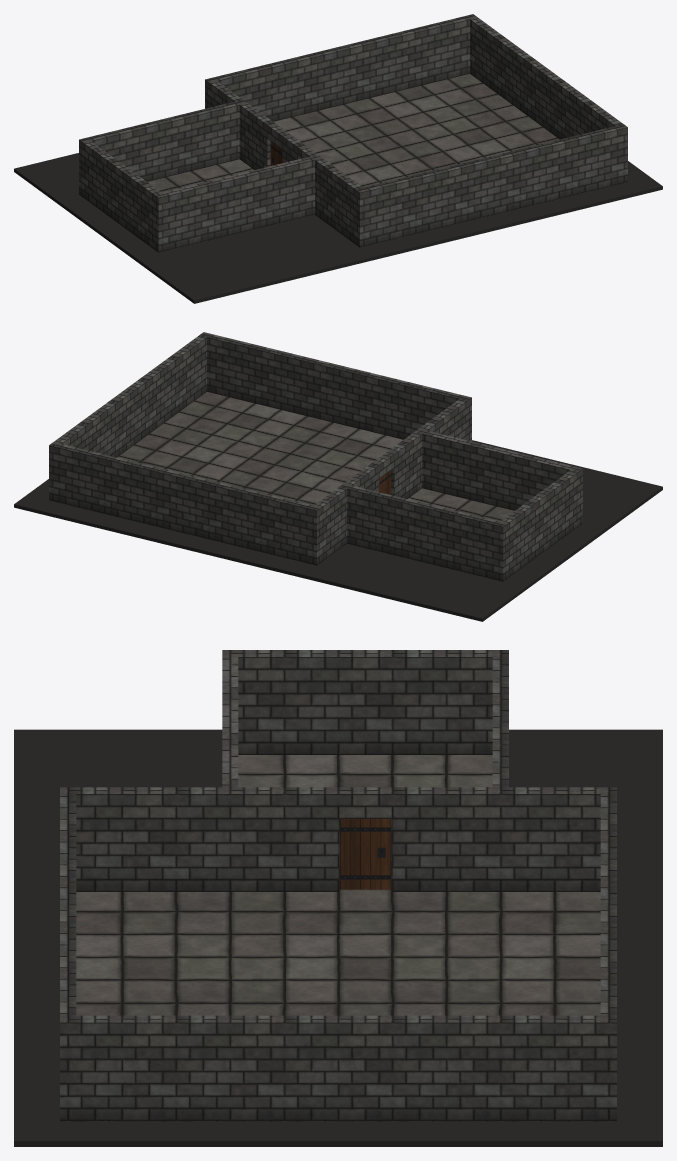
Rendered from two-room-dungeon.glb.
The picture shows the model from 3 angles, top to bottom: view 1: azimuth 30°, elevation 25°; view 2: azimuth 150°, elevation 25°; view 3: azimuth 270°, elevation 25°; orthographic projection. The views are drawn at different scales.
Parts seen in each view (by area): view 1: Base_Bedrock, Floor_Room2, Wall_R2_South, Wall_R2_North, Wall_R1_South, Wall_R1_North, Wall_R2_East, Wall_R1_West, Wall_Shared_A, Wall_Shared_B, Floor_Room1; view 2: Base_Bedrock, Floor_Room2, Wall_R2_North, Wall_R2_South, Wall_R1_North, Wall_R1_South, Wall_R2_East, Wall_R1_West, Wall_Shared_A, Wall_Shared_B, Floor_Room1; view 3: Base_Bedrock, Floor_Room2, Wall_R2_East, Wall_Shared_A, Wall_R1_West, Wall_Shared_B, Floor_Room1, Wall_R2_North, Wall_R2_South, Door_Room1_Room2, Wall_R1_North, Wall_R1_South (+1 smaller).
Boxes of the visible parts, box(x1,y1,x2,y2) form: Base_Bedrock: box(14, 153, 662, 303); Floor_Room2: box(273, 74, 559, 187); Wall_R2_South: box(355, 124, 627, 247); Wall_R2_North: box(205, 14, 477, 121); Wall_R1_South: box(154, 156, 314, 252); Wall_R1_North: box(79, 101, 239, 197); Wall_R2_East: box(470, 17, 622, 139); Wall_R1_West: box(83, 141, 161, 249); Wall_Shared_A: box(282, 134, 362, 243); Wall_Shared_B: box(209, 81, 274, 169); Floor_Room1: box(147, 159, 253, 192); Base_Bedrock: box(14, 440, 662, 621); Floor_Room2: box(117, 392, 403, 505); Wall_R2_North: box(49, 442, 321, 565); Wall_R2_South: box(199, 332, 471, 441); Wall_R1_North: box(347, 485, 507, 581); Wall_R1_South: box(422, 430, 582, 526); Wall_R2_East: box(54, 335, 206, 457); Wall_R1_West: box(500, 470, 578, 577); Wall_Shared_A: box(387, 399, 467, 498); Wall_Shared_B: box(314, 463, 379, 561); Floor_Room1: box(408, 488, 514, 521); Base_Bedrock: box(14, 729, 662, 1146); Floor_Room2: box(76, 888, 600, 1015); Wall_R2_East: box(76, 1015, 600, 1121); Wall_Shared_A: box(76, 787, 338, 891); Wall_R1_West: box(238, 650, 492, 754); Wall_Shared_B: box(392, 787, 600, 891); Floor_Room1: box(238, 755, 492, 888); Wall_R2_North: box(600, 787, 616, 1121); Wall_R2_South: box(60, 787, 76, 1121); Door_Room1_Room2: box(340, 818, 390, 889); Wall_R1_North: box(492, 650, 508, 787); Wall_R1_South: box(222, 650, 238, 787).
Size of the model in its own units: 18 by 2.14 by 12.
4 materials, 3 textured.
